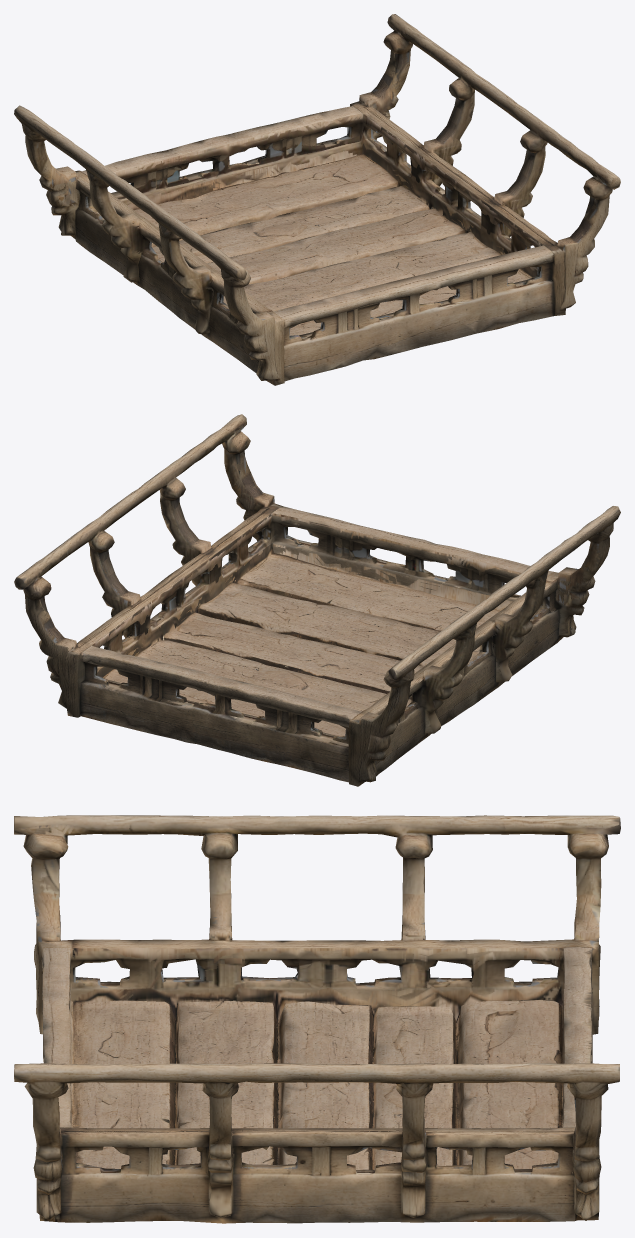
The model's file is rail.fbx.
3 renders of one model, top to bottom at view 1: azimuth 30°, elevation 25°; view 2: azimuth 150°, elevation 25°; view 3: azimuth 270°, elevation 25°, orthographic. The views are drawn at different scales.
Visible parts, largest first — view 1: texture_mapping; view 2: texture_mapping; view 3: texture_mapping.
Boxes of the visible parts, x1,y1,x2,y2 form: texture_mapping: (14, 14, 620, 385); texture_mapping: (14, 414, 620, 786); texture_mapping: (14, 815, 620, 1223).
Bounding box in the file's own units: 0.9975 × 0.9988 × 0.3359.
1 material, 1 textured.
